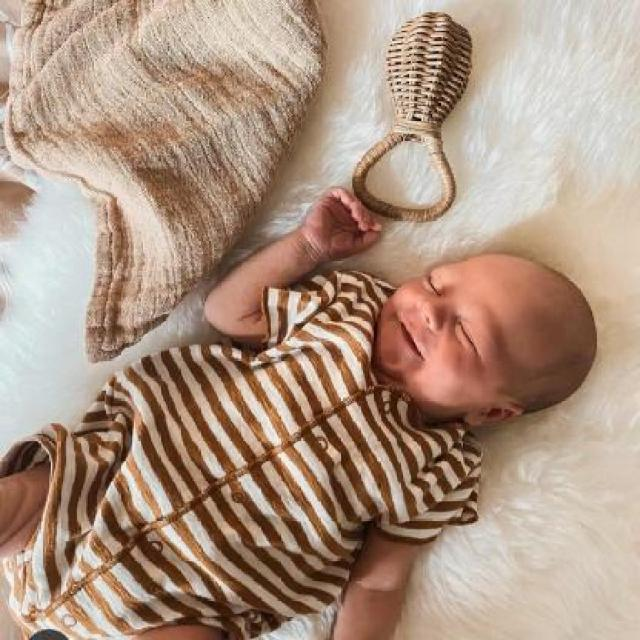child: (3, 185, 597, 639)
